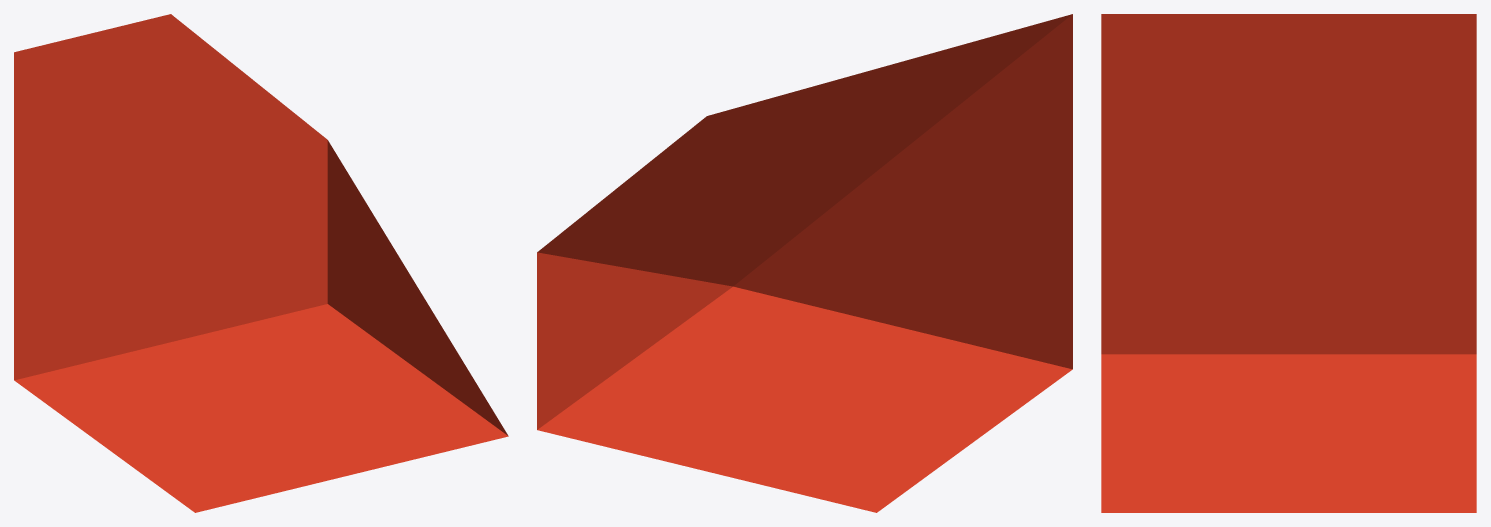
File: r5c3_border_red.gltf
3 renders of one model, left to right at view 1: azimuth 30°, elevation 25°; view 2: azimuth 150°, elevation 25°; view 3: azimuth 270°, elevation 25°, orthographic. The views are drawn at different scales.
Parts seen in each view (by area): view 1: r5c3_border_red; view 2: r5c3_border_red; view 3: r5c3_border_red.
Part boxes in pixels (bbox=[...]): r5c3_border_red: bbox=[14, 14, 508, 512]; r5c3_border_red: bbox=[537, 14, 1072, 512]; r5c3_border_red: bbox=[1101, 14, 1476, 512].
Size of the model in its own units: 2.1 by 2.1 by 2.1.
1 material, 1 textured.
